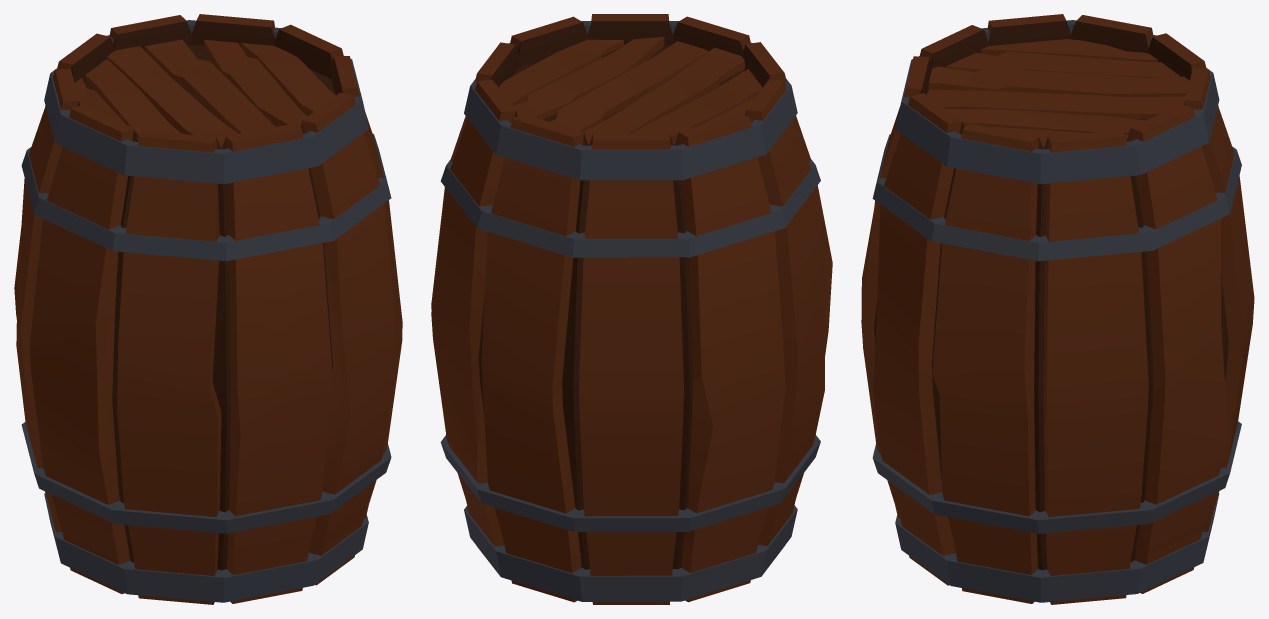
The model's file is Village_Barrel.glb.
3 views of the same model, side by side, from view 1: azimuth 30°, elevation 25°; view 2: azimuth 150°, elevation 25°; view 3: azimuth 270°, elevation 25° (orthographic).
Parts seen in each view (by area): view 1: Barrel; view 2: Barrel; view 3: Barrel.
Boxes of the visible parts, left/top/right/bottom form: Barrel: left=14, top=14, right=402, bottom=604; Barrel: left=431, top=14, right=832, bottom=604; Barrel: left=861, top=14, right=1254, bottom=604.
Bounding box in the file's own units: 15.82 × 20.43 × 15.68.
